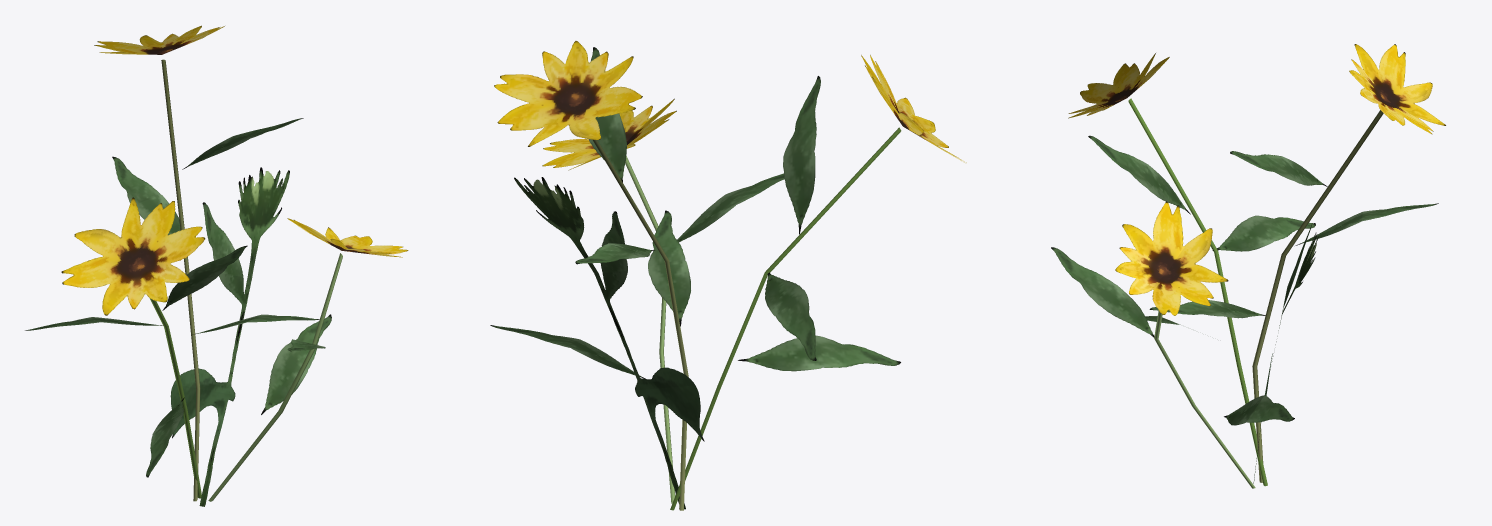
The picture shows the model from 3 angles, left to right: view 1: azimuth 30°, elevation 25°; view 2: azimuth 150°, elevation 25°; view 3: azimuth 270°, elevation 25°; orthographic projection. The views are drawn at different scales.
Parts seen in each view (by area): view 1: F10; view 2: F10; view 3: F10.
Boxes of the visible parts, left/top/right/bottom form: F10: left=25, top=25, right=408, bottom=506; F10: left=490, top=41, right=966, bottom=510; F10: left=1051, top=44, right=1445, bottom=488.
Size of the model in its own units: 191 by 225 by 192.
